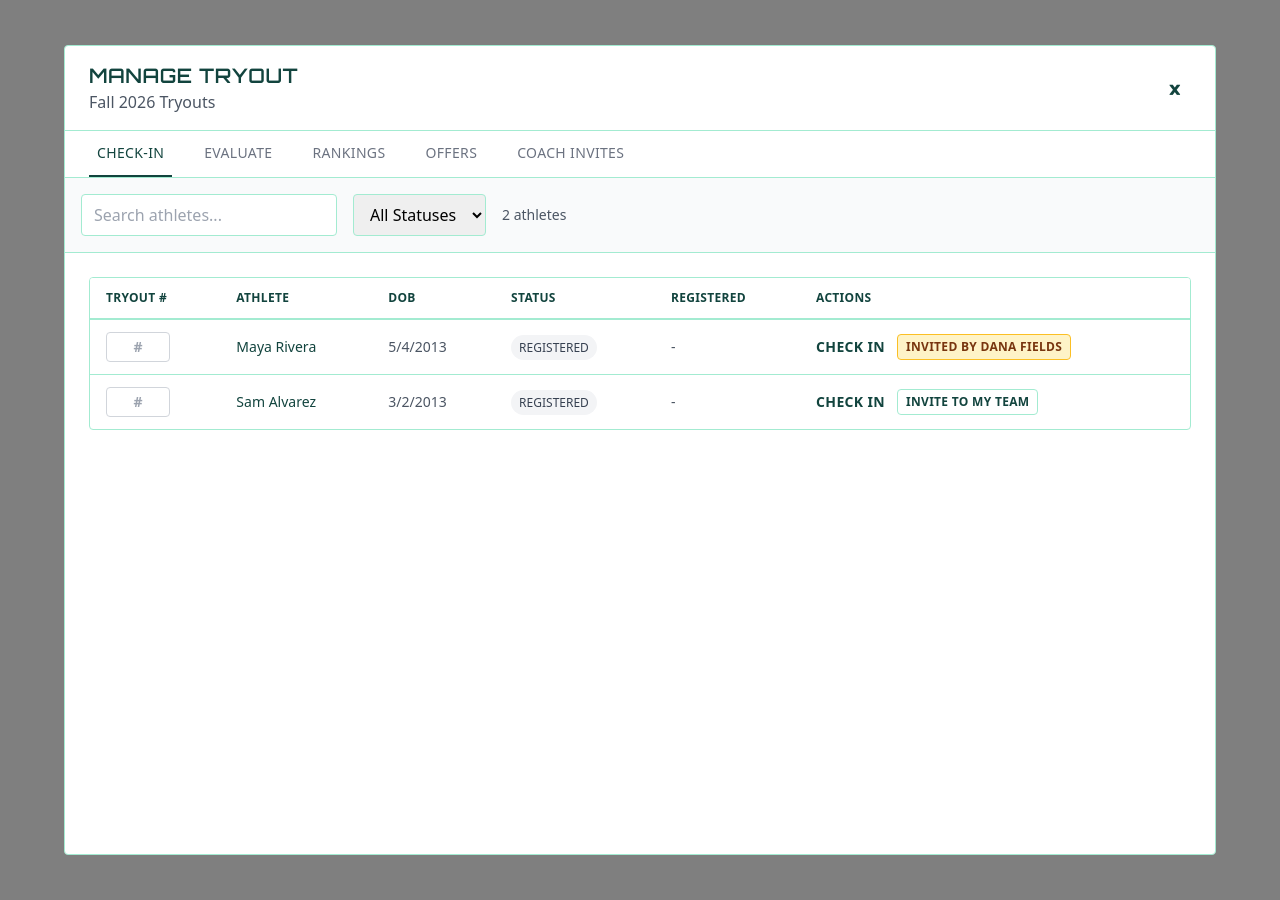
Test: the director table › filters by status, and keeps the control visible when nothing matches
This screenshot has width=1280, height=900.
Expected: the text "Maya Rivera" is shown, [236,337,316,356]
Click the button "Coach invites" at (571, 154), box [509,131,632,177]
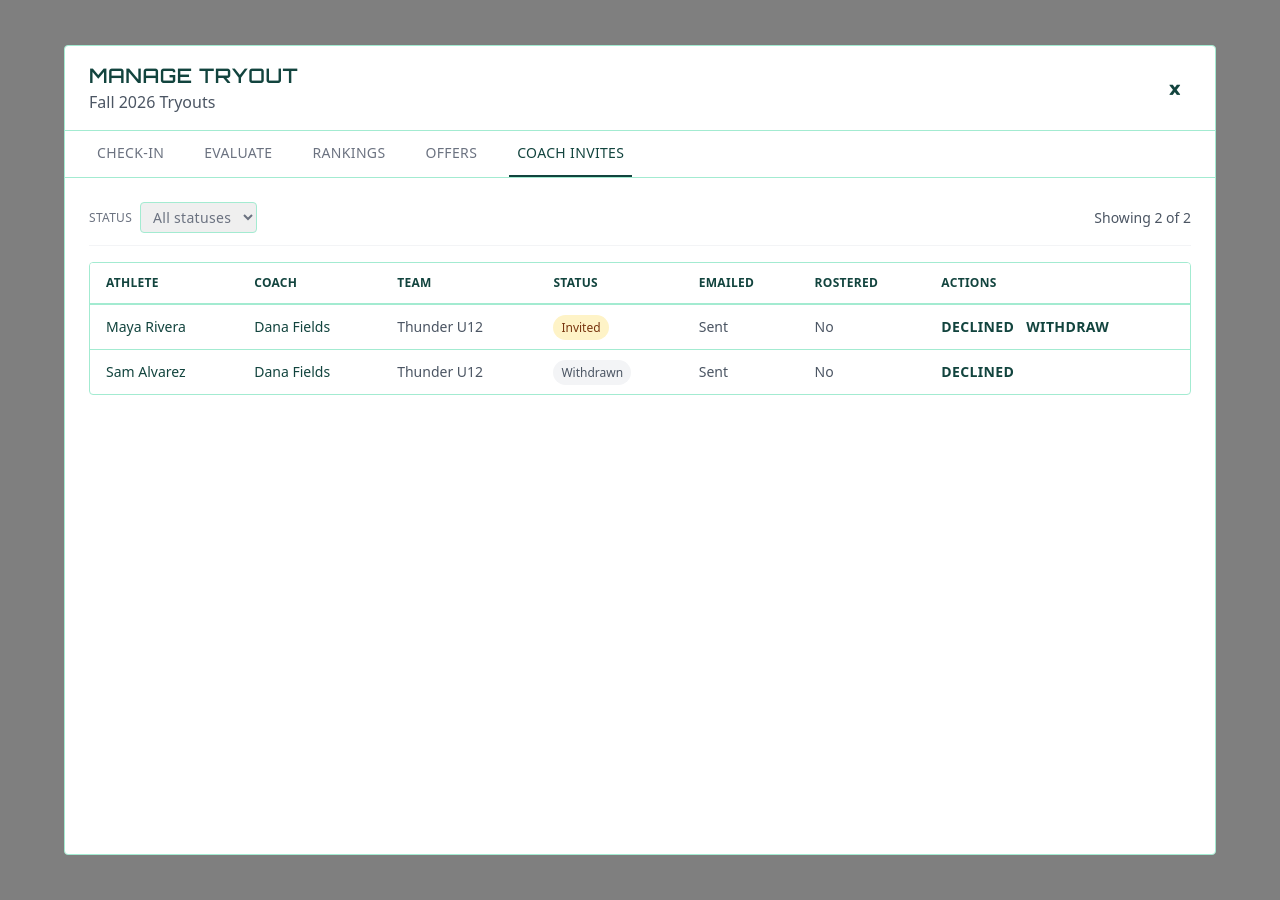
Result: the dropdown named "Filter coach invites by status" is shown
Select "Withdrawn" in the dropdown named "Filter coach invites by status" at (199, 218), box [140,202,257,233]
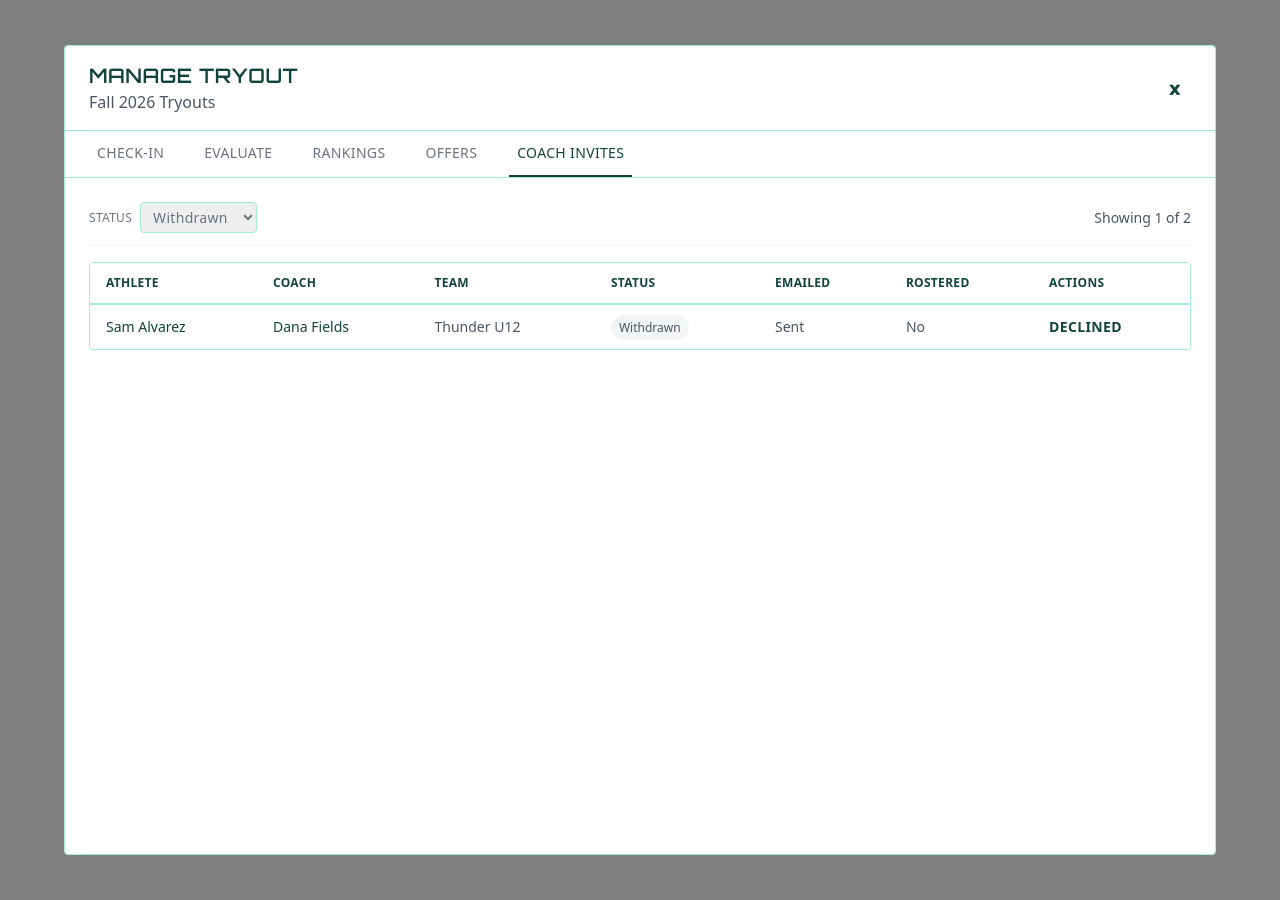
Select "Declined" in the dropdown named "Filter coach invites by status" at (199, 218), box [140,202,257,233]
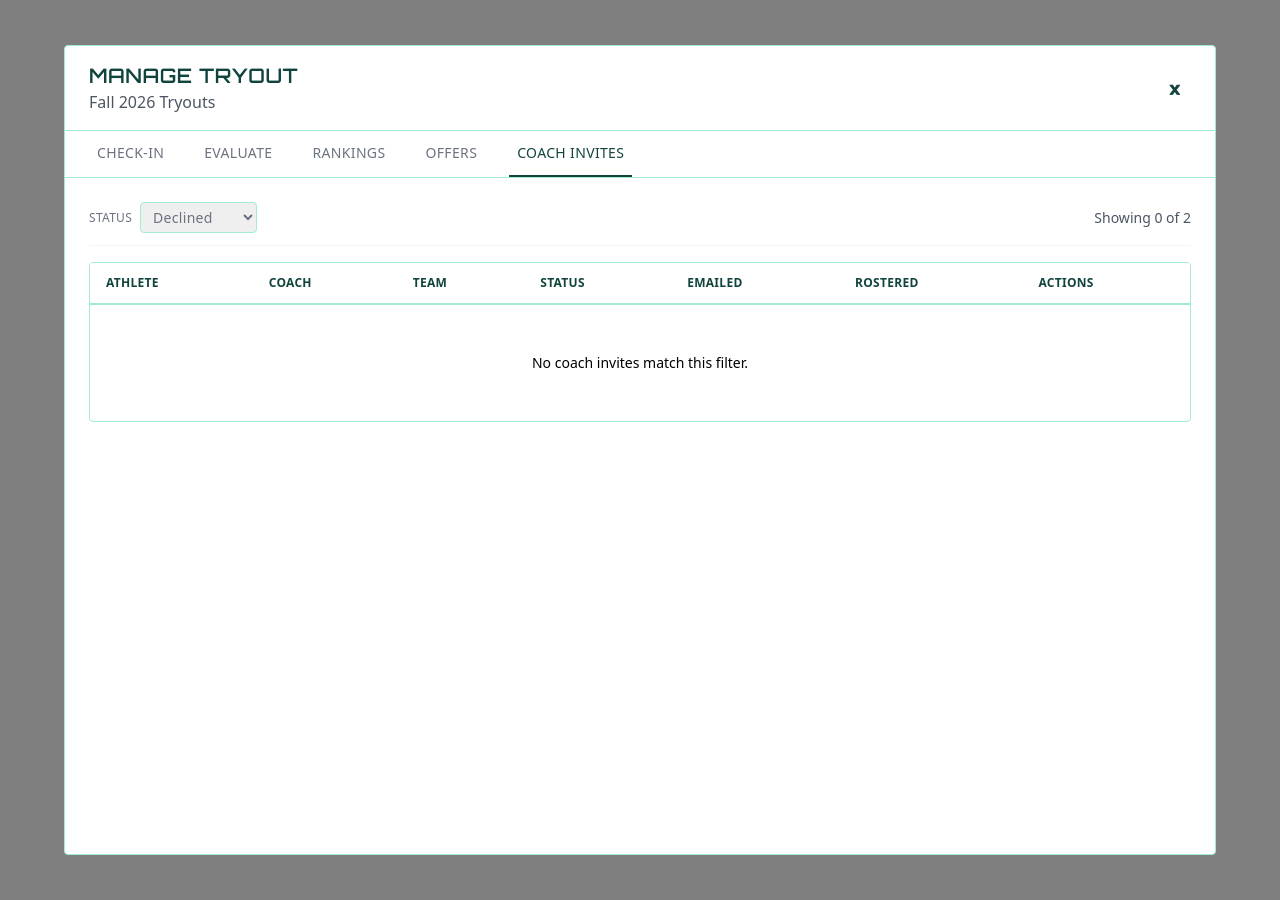
Result: the text "No coach invites match this filter." is shown at [532,353,748,372]
